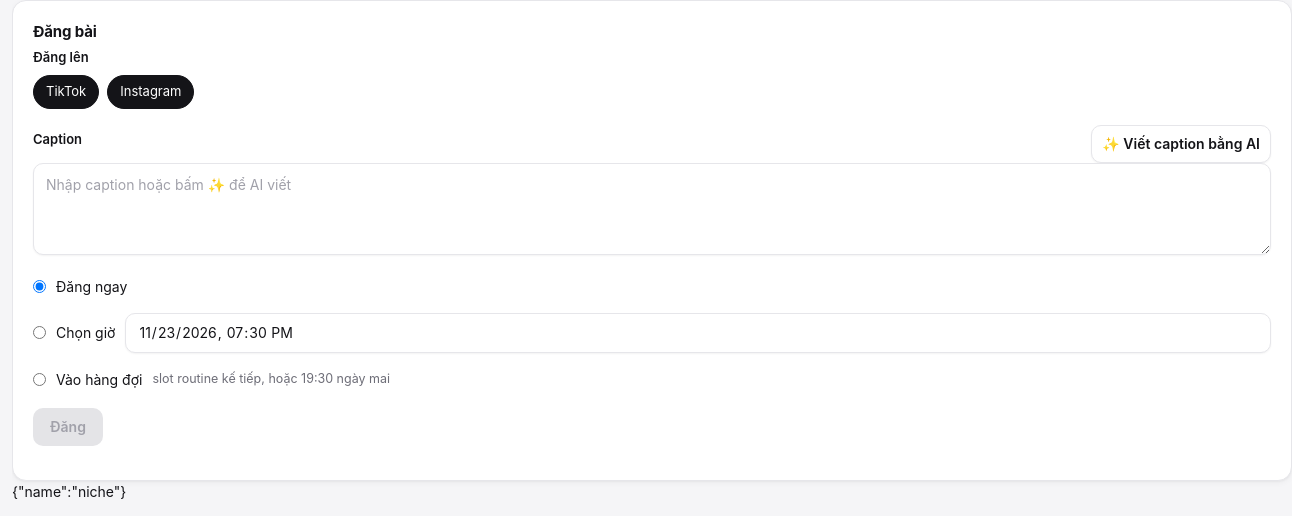
Test: the caption is NOT generated on open; the button writes it once on click; unsupported channels are hidden
The width and height of the screenshot is (1292, 516).
Expected: the checkbox "TikTok" is shown, [33,75,99,108]
Expected: the text box labelled "caption" is empty, [33,162,1271,254]
Click the button "✨ Viết caption bằng AI" at (1181, 144), box [1091,124,1271,162]
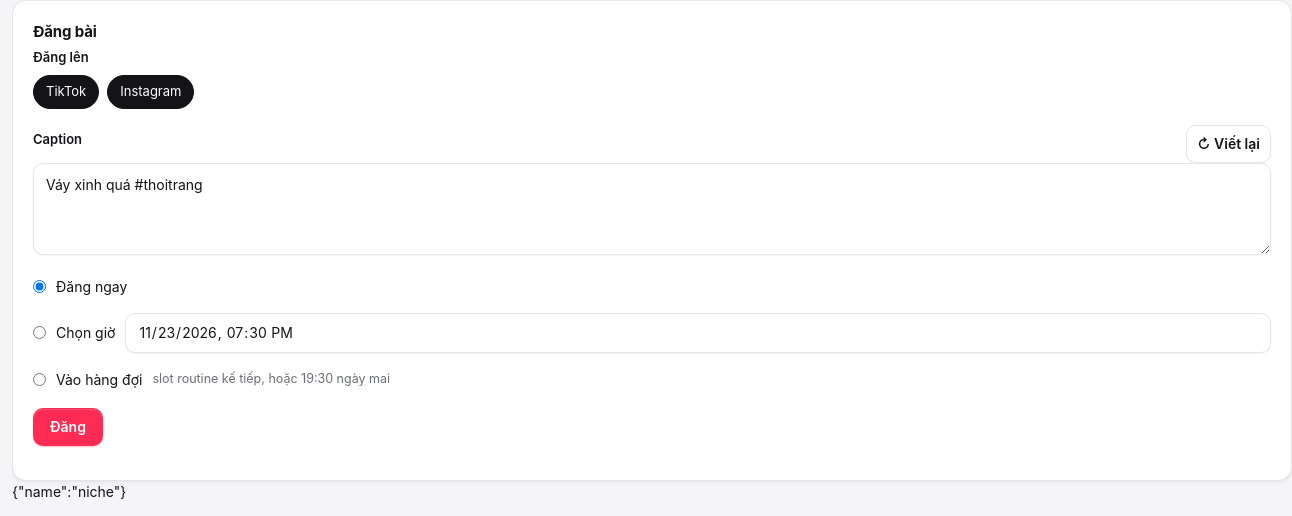
Expected: the checkbox "Instagram" is shown, [107,75,194,108]
Result: the text box showing "Váy xinh quá #thoitrang" is shown at [33,162,1271,254]
